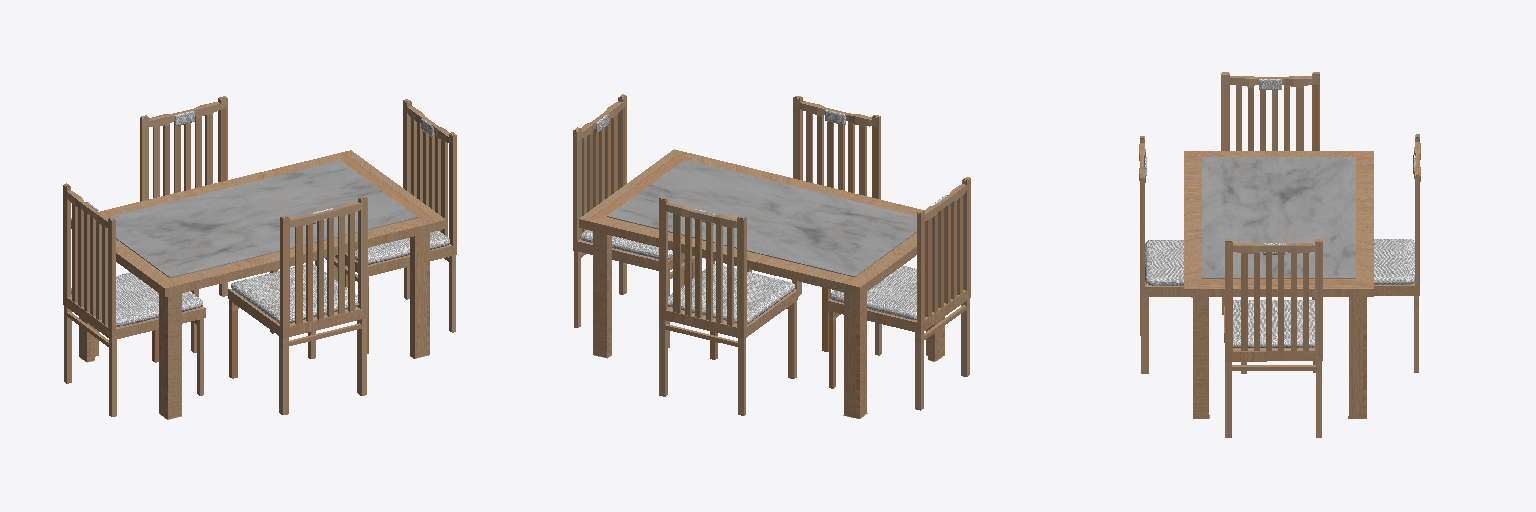
The picture shows the model from 3 angles: view 1: azimuth 30°, elevation 25°; view 2: azimuth 150°, elevation 25°; view 3: azimuth 270°, elevation 25°; orthographic projection.
Visible parts, largest first — view 1: Glass_Cube.004, Chair.002_Cube.018, Chair.003_Cube.022, Glass_border_Cube.005, Chair.001_Cube.015, Chair_Cube.007, Table_Leg.004_Cube.011, Seat.002_Cube.019, Table_Leg.003_Cube.006, Seat.003_Cube.021, Seat.001_Cube.016, Table_Leg.002_Cube.010; view 2: Glass_Cube.004, Chair_Cube.007, Chair.003_Cube.022, Glass_border_Cube.005, Chair.001_Cube.015, Chair.002_Cube.018, Table_Leg.002_Cube.010, Seat_Cube.001, Table_Leg.001_Cube.009, Seat.003_Cube.021, Seat.001_Cube.016, Table_Leg.004_Cube.011; view 3: Glass_Cube.004, Chair.001_Cube.015, Glass_border_Cube.005, Chair.003_Cube.022, Table_Leg.001_Cube.009, Seat.001_Cube.016, Chair.002_Cube.018, Table_Leg.003_Cube.006, Seat_Cube.001, Seat.002_Cube.019, Chair_Cube.007.
Part boxes in pixels (x1,y1,x2,y2): Glass_Cube.004: (111, 161, 417, 277); Chair.002_Cube.018: (228, 196, 367, 414); Chair.003_Cube.022: (63, 183, 205, 416); Glass_border_Cube.005: (71, 150, 445, 296); Chair.001_Cube.015: (315, 99, 456, 353); Chair_Cube.007: (140, 96, 277, 352); Table_Leg.004_Cube.011: (159, 293, 181, 419); Seat.002_Cube.019: (231, 264, 358, 323); Table_Leg.003_Cube.006: (410, 233, 429, 358); Seat.003_Cube.021: (71, 272, 202, 326); Seat.001_Cube.016: (347, 231, 449, 264); Table_Leg.002_Cube.010: (79, 317, 98, 362); Glass_Cube.004: (607, 160, 916, 276); Chair_Cube.007: (659, 197, 797, 415); Chair.003_Cube.022: (828, 177, 970, 410); Glass_border_Cube.005: (579, 149, 920, 295); Chair.001_Cube.015: (573, 94, 714, 347); Chair.002_Cube.018: (747, 96, 880, 351); Table_Leg.002_Cube.010: (843, 292, 867, 418); Seat_Cube.001: (668, 264, 794, 323); Table_Leg.001_Cube.009: (593, 231, 611, 358); Seat.003_Cube.021: (830, 266, 916, 319); Seat.001_Cube.016: (580, 230, 672, 259); Table_Leg.004_Cube.011: (926, 317, 944, 361); Glass_Cube.004: (1202, 157, 1355, 278); Chair.001_Cube.015: (1224, 239, 1322, 437); Glass_border_Cube.005: (1184, 151, 1373, 296); Chair.003_Cube.022: (1221, 72, 1319, 314); Table_Leg.001_Cube.009: (1348, 297, 1366, 418); Seat.001_Cube.016: (1233, 300, 1314, 347); Chair.002_Cube.018: (1139, 136, 1246, 373); Table_Leg.003_Cube.006: (1193, 297, 1209, 418); Seat_Cube.001: (1374, 239, 1414, 284); Seat.002_Cube.019: (1145, 240, 1183, 285); Chair_Cube.007: (1313, 134, 1420, 372).
Size of the model in its own units: 1.85 by 1.01 by 1.3.
Materials: 5 (3 with a texture image).